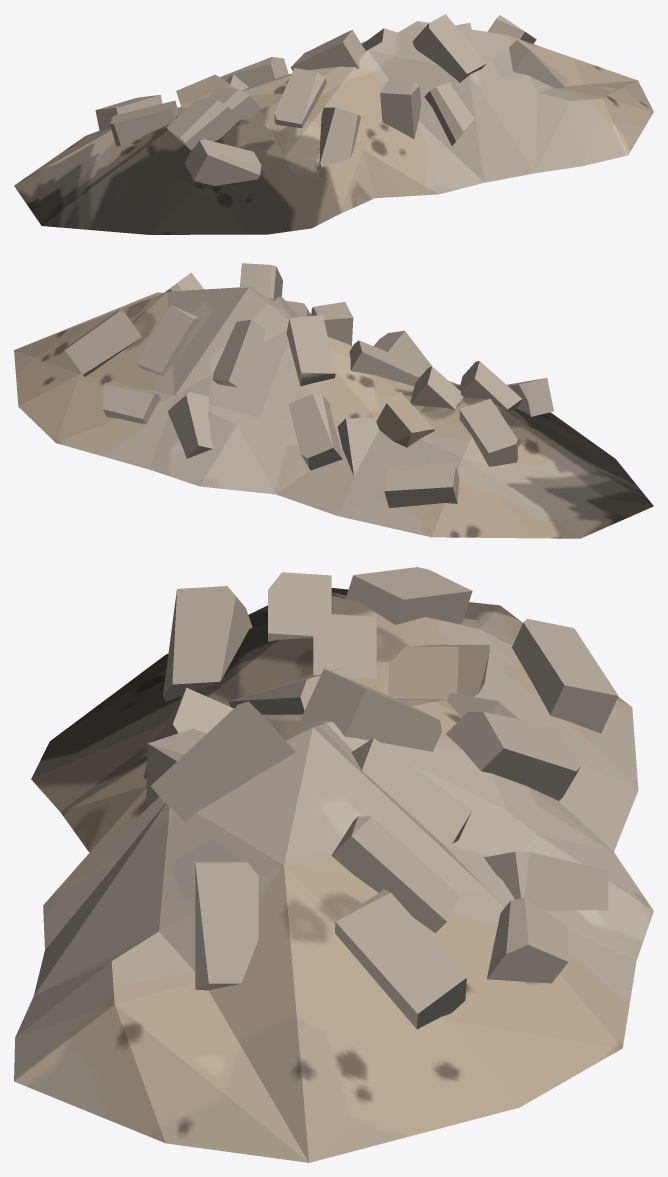
The model's file is SM_Prop_DebrisPile_01.fbx.
3 views of the same model, one above another, from view 1: azimuth 30°, elevation 25°; view 2: azimuth 150°, elevation 25°; view 3: azimuth 270°, elevation 25° (orthographic). The views are drawn at different scales.
Visible parts, largest first — view 1: SM_Prop_DebrisPile_01; view 2: SM_Prop_DebrisPile_01; view 3: SM_Prop_DebrisPile_01.
Part boxes in pixels (<box>): SM_Prop_DebrisPile_01: <box>14,14,653,234</box>; SM_Prop_DebrisPile_01: <box>14,263,653,538</box>; SM_Prop_DebrisPile_01: <box>14,567,653,1162</box>.
Size of the model in its own units: 811 by 170 by 380.
